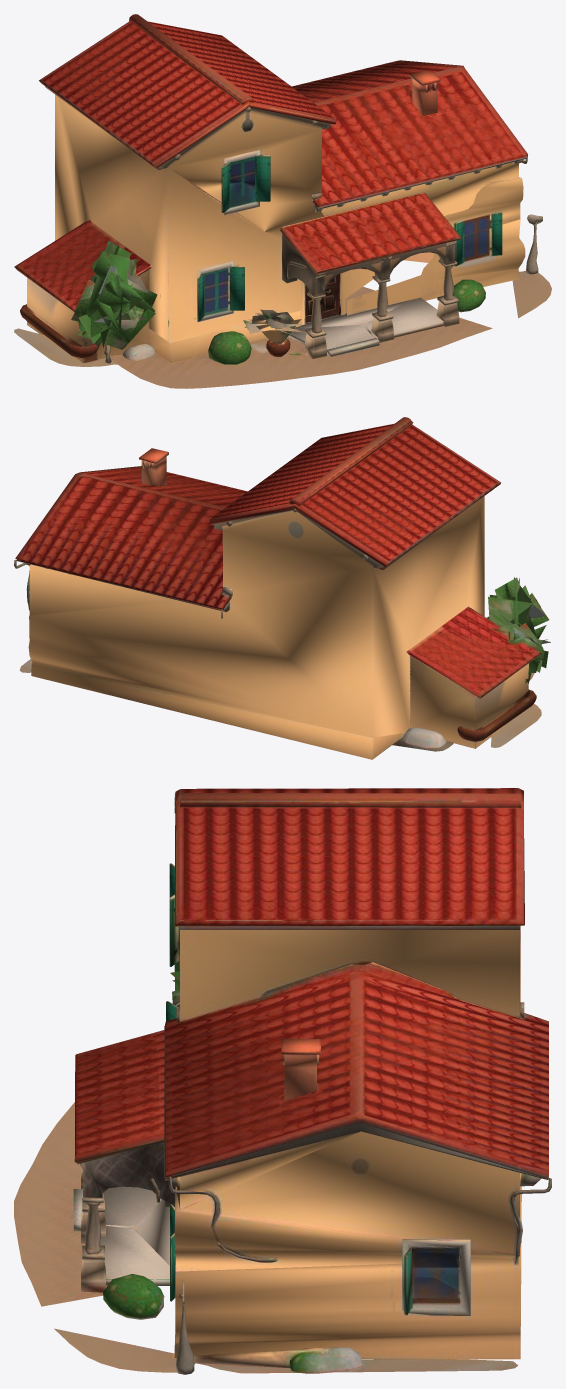
Rendered from farmhouse.glb.
3 views of the same model, one above another, from view 1: azimuth 30°, elevation 25°; view 2: azimuth 150°, elevation 25°; view 3: azimuth 270°, elevation 25° (orthographic). The views are drawn at different scales.
Size of the model in its own units: 0.9541 by 0.4883 by 0.6436.
1 material, 1 textured.
